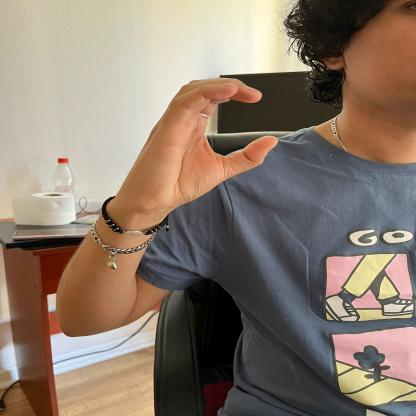C: (123, 70, 277, 210)
